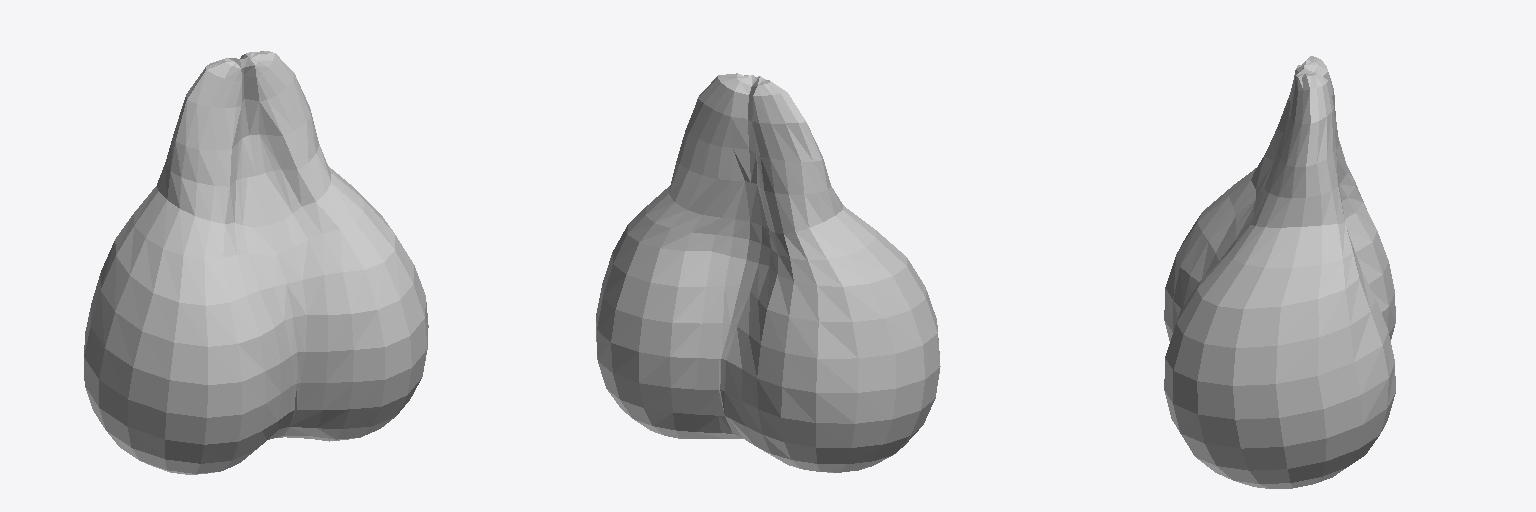
File: Anthro balls.obj
3 renders of one model, left to right at view 1: azimuth 30°, elevation 25°; view 2: azimuth 150°, elevation 25°; view 3: azimuth 270°, elevation 25°, orthographic.
Visible parts, largest first — view 1: horsecock.001; view 2: horsecock.001; view 3: horsecock.001.
Boxes of the visible parts, <box> form: horsecock.001: <box>84,51,428,474</box>; horsecock.001: <box>596,73,940,472</box>; horsecock.001: <box>1164,56,1395,488</box>.
Size of the model in its own units: 6.13 by 7.06 by 3.91.